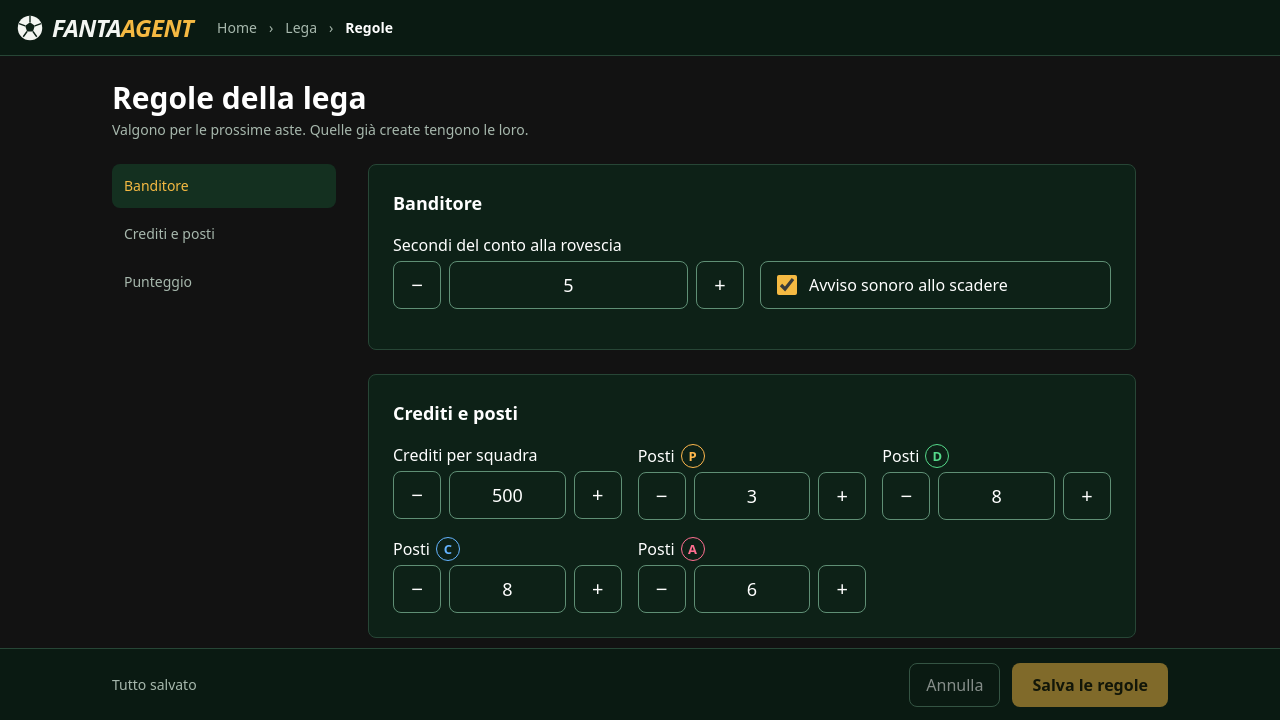
LeagueRulesRoute › mostra gli errori accanto al loro campo, e ne annuncia il conto una volta sola
The image size is (1280, 720).
Click the button named "Un secondo in più". click: [720, 285]
box: top-left (696, 261), bottom-right (744, 309)
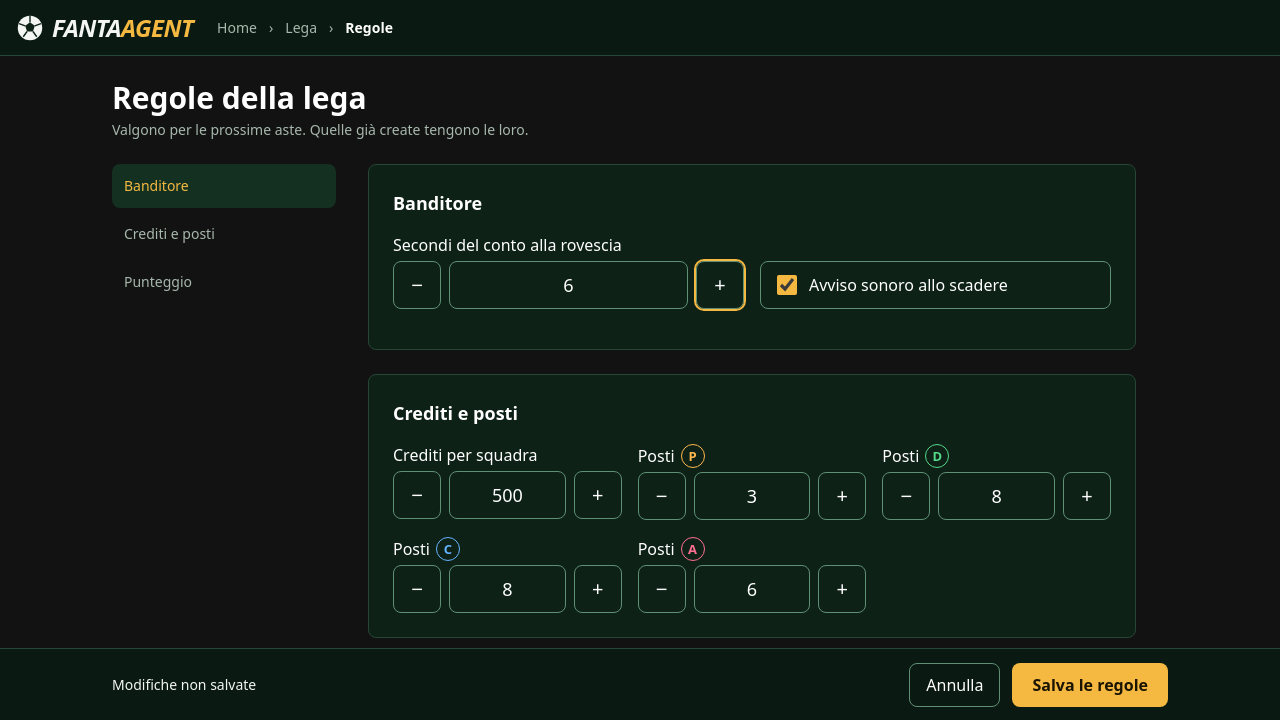
Click the button "Salva le regole". click: [1090, 684]
box: top-left (1012, 662), bottom-right (1168, 706)
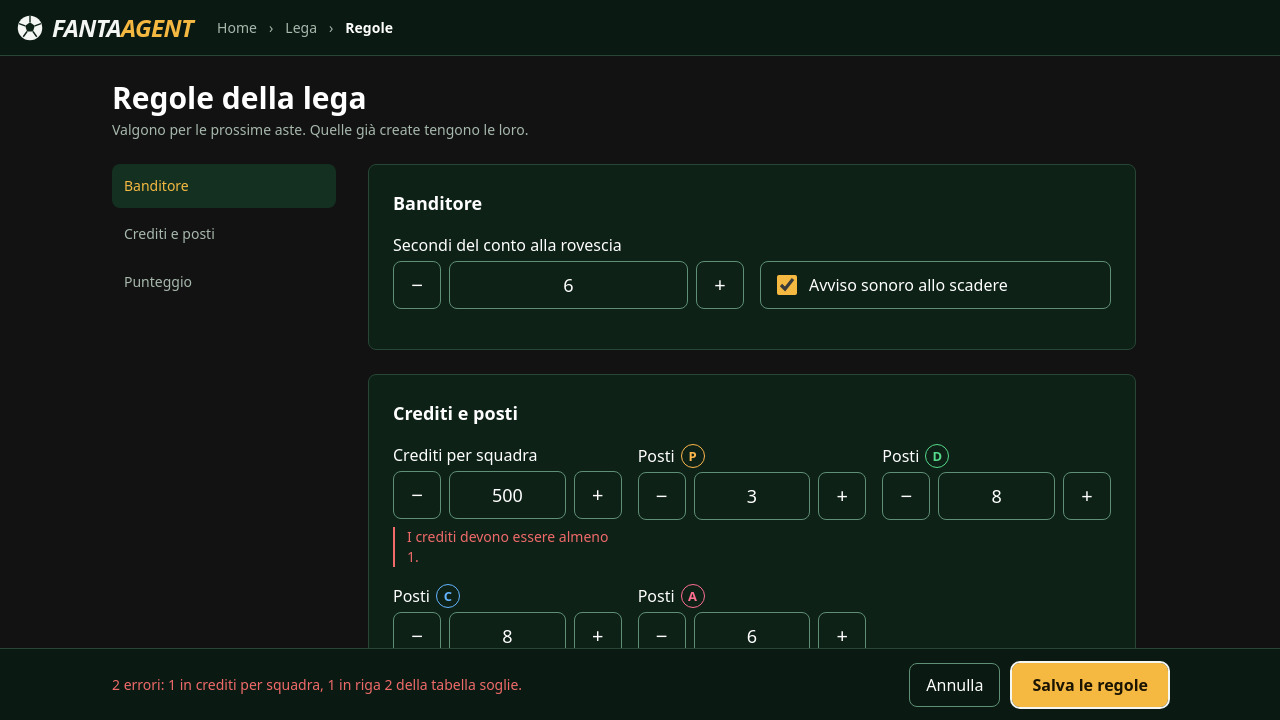
Now the list item "I crediti devono essere almeno 1." is shown, box top-left (407, 527), bottom-right (622, 567)
Now the number of messages is 1, box top-left (112, 675), bottom-right (522, 694)
Now the message shows "2 errori", box top-left (112, 675), bottom-right (522, 694)
